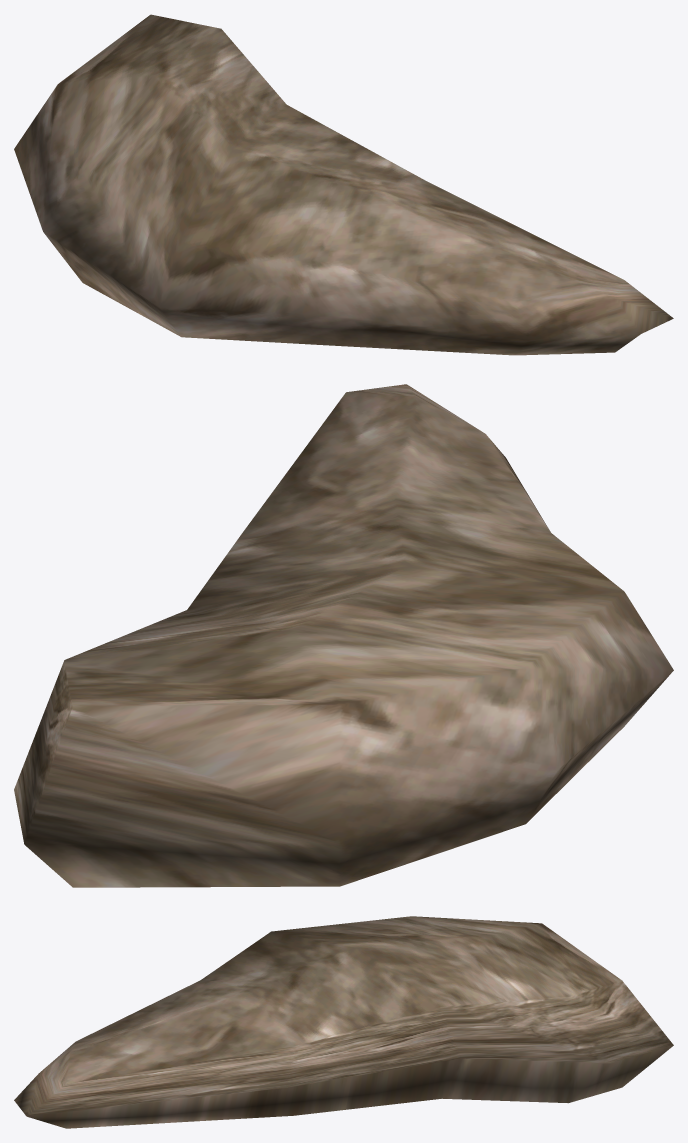
The model's file is OVERHILL_A_01_LINE307.fbx.
3 renders of one model, top to bottom at view 1: azimuth 30°, elevation 25°; view 2: azimuth 150°, elevation 25°; view 3: azimuth 270°, elevation 25°, orthographic. The views are drawn at different scales.
Parts seen in each view (by area): view 1: OVERHILL_A_01_LINE307; view 2: OVERHILL_A_01_LINE307; view 3: OVERHILL_A_01_LINE307.
Boxes of the visible parts, x1,y1,x2,y2 form: OVERHILL_A_01_LINE307: [14, 14, 673, 355]; OVERHILL_A_01_LINE307: [14, 384, 673, 887]; OVERHILL_A_01_LINE307: [14, 916, 673, 1128].
Size of the model in its own units: 35633 by 12546 by 62567.
1 material, 1 textured.
